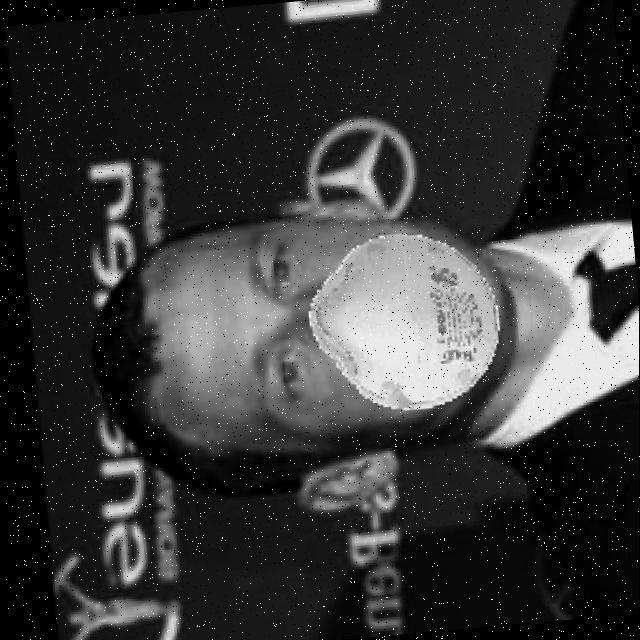mask: (317, 229, 511, 399)
no_gloves: (96, 250, 180, 456)
